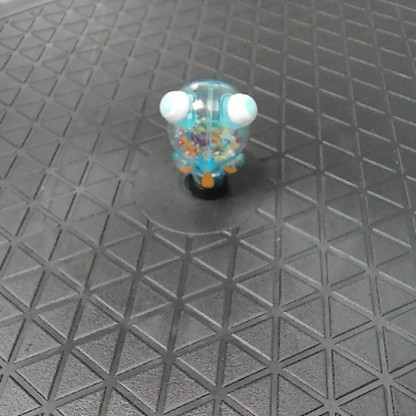bluefish: (157, 78, 261, 188)
